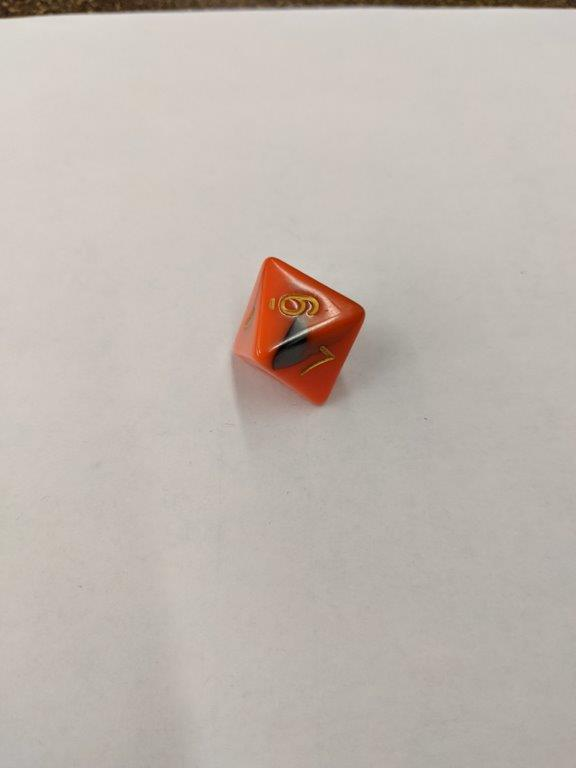d8-6: (227, 254, 367, 408)
